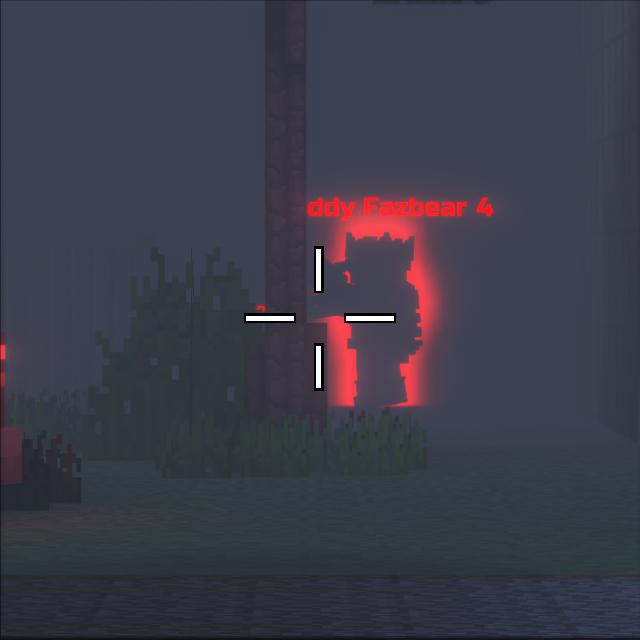Enemy: (336, 231, 419, 406)
